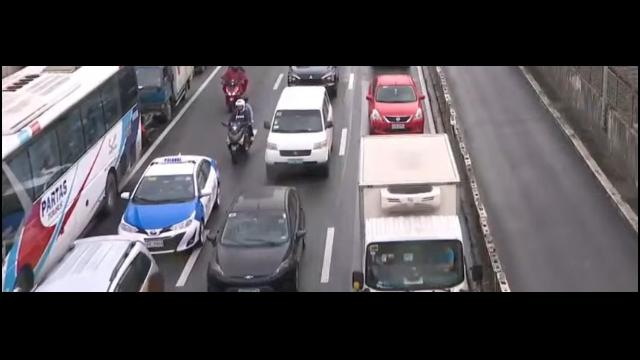bus: (0, 62, 148, 289)
car: (207, 183, 306, 294), (116, 153, 221, 252), (263, 85, 333, 182), (369, 62, 438, 137)
motorcycle: (224, 99, 255, 164), (221, 66, 255, 108)
truck: (349, 124, 484, 297), (129, 63, 200, 128)
van: (40, 236, 168, 293)
